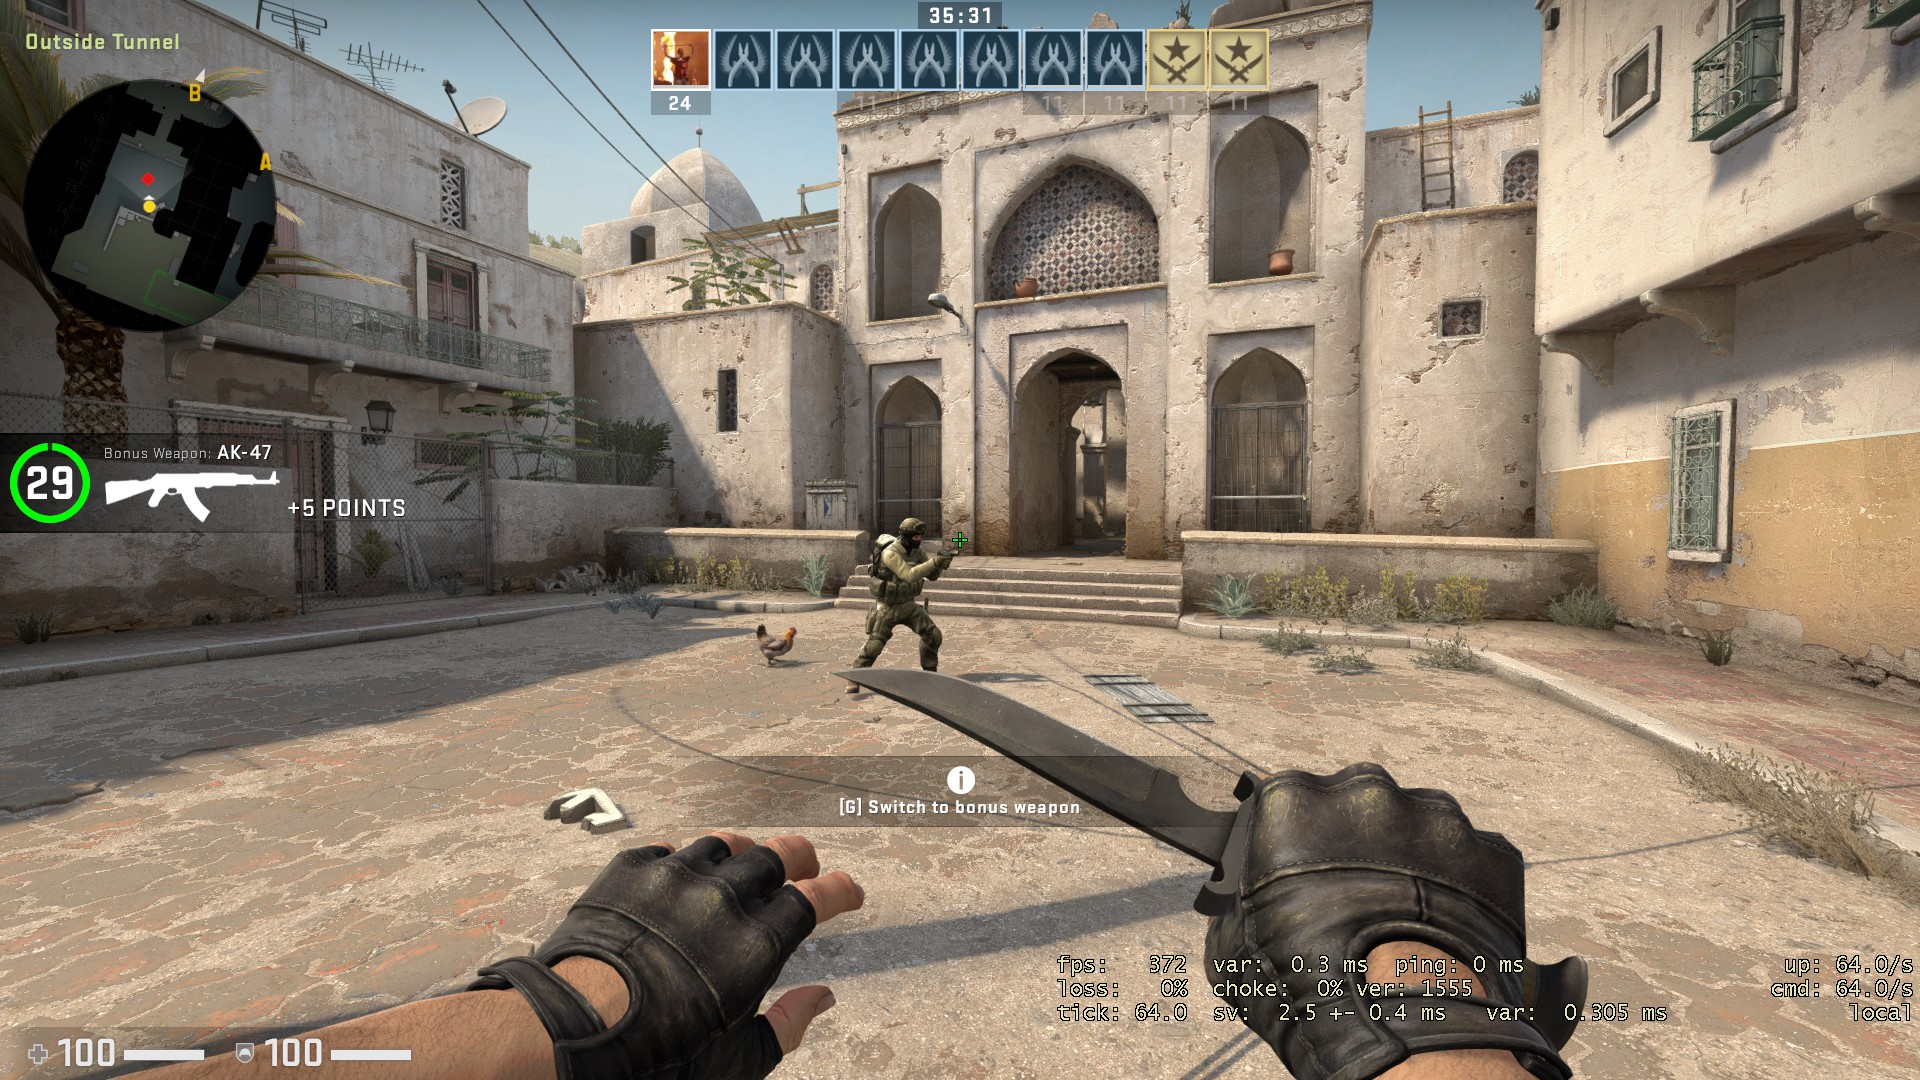player: (836, 511, 955, 702)
